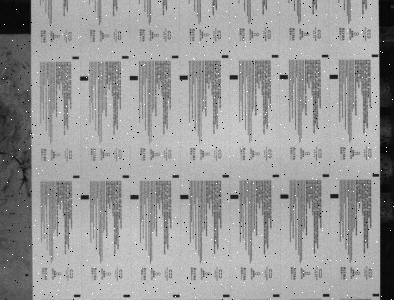qblock: (179, 75, 188, 80), (230, 75, 239, 80), (330, 74, 339, 79), (230, 194, 239, 199), (180, 194, 189, 199), (80, 76, 88, 81), (130, 75, 138, 80), (280, 75, 289, 79), (130, 195, 139, 199), (81, 195, 89, 199), (281, 194, 289, 198), (331, 194, 339, 198)
smallqblock: (372, 54, 380, 58), (272, 54, 279, 58), (223, 174, 230, 178), (273, 294, 281, 297), (72, 56, 79, 59), (122, 56, 129, 59), (172, 55, 179, 58), (222, 55, 229, 58), (322, 54, 329, 57), (73, 175, 80, 178), (123, 175, 130, 178), (273, 174, 280, 177), (173, 175, 180, 178), (323, 174, 330, 177), (373, 174, 380, 177), (74, 294, 81, 297), (123, 294, 130, 297), (223, 294, 230, 297), (173, 294, 180, 297), (323, 293, 330, 296), (373, 293, 380, 296)
